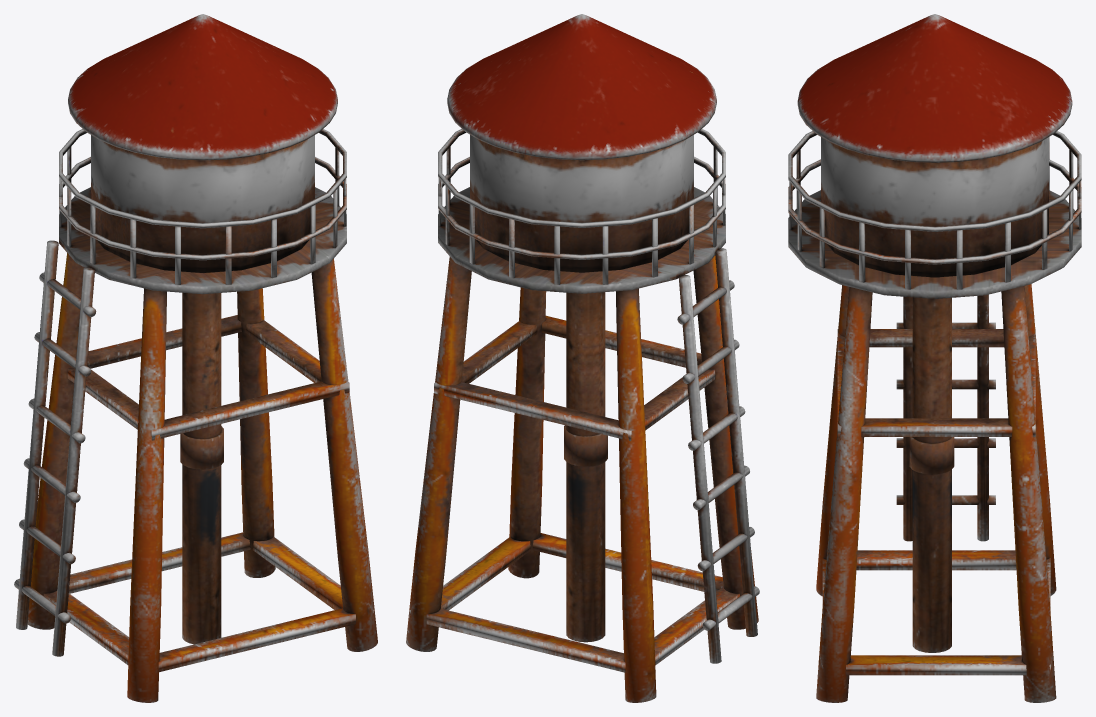
The model's file is water tower.FBX.
3 views of the same model, side by side, from view 1: azimuth 30°, elevation 25°; view 2: azimuth 150°, elevation 25°; view 3: azimuth 270°, elevation 25° (orthographic).
Visible parts, largest first — view 1: Cylinder004, Cylinder002, Cylinder009, Cylinder005, Cylinder006, Box002, Box001, Cylinder003, Cylinder007, Cylinder008, Cylinder010, Cylinder011 (+7 smaller); view 2: Cylinder004, Cylinder002, Cylinder009, Cylinder007, Cylinder008, Box002, Box001, Cylinder003, Cylinder006, Cylinder005, Cylinder010, Cylinder011 (+9 smaller); view 3: Cylinder004, Cylinder002, Cylinder009, Cylinder008, Cylinder006, Cylinder003, Box002, Box001, Object002, Object001, Cylinder010, Cylinder005 (+4 smaller).
Boxes of the visible parts, x1,y1,x2,y2 form: Cylinder004: (68,14,337,160); Cylinder002: (91,135,314,272); Cylinder009: (182,292,221,644); Cylinder005: (127,288,166,702); Cylinder006: (311,259,377,651); Box002: (43,532,373,672); Box001: (67,315,349,440); Cylinder003: (59,187,346,294); Cylinder007: (27,253,84,629); Cylinder008: (237,288,275,577); Cylinder010: (16,240,58,629); Cylinder011: (52,267,94,656); Cylinder004: (447,14,716,160); Cylinder002: (470,135,693,272); Cylinder009: (566,292,605,642); Cylinder007: (616,288,656,702); Cylinder008: (406,256,471,651); Box002: (409,533,739,672); Box001: (434,315,715,441); Cylinder003: (438,187,725,293); Cylinder006: (508,287,546,578); Cylinder005: (693,255,758,629); Cylinder010: (678,275,721,663); Cylinder011: (715,248,757,636); Cylinder004: (797,14,1072,162); Cylinder002: (821,137,1048,277); Cylinder009: (912,297,951,652); Cylinder008: (1001,286,1056,702); Cylinder006: (816,287,872,702); Cylinder003: (788,190,1081,298); Box002: (822,550,1050,675); Box001: (837,329,1035,436); Object002: (788,131,1081,231); Object001: (788,159,1081,264); Cylinder010: (977,294,988,541); Cylinder005: (816,285,849,596).
Bounding box in the file's own units: 352 × 724 × 304.
